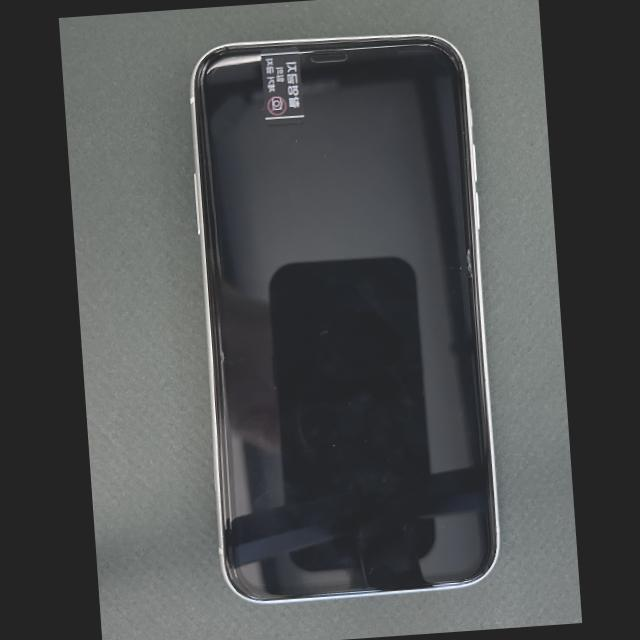phone: (188, 33, 500, 604)
sticker: (260, 46, 305, 125)
